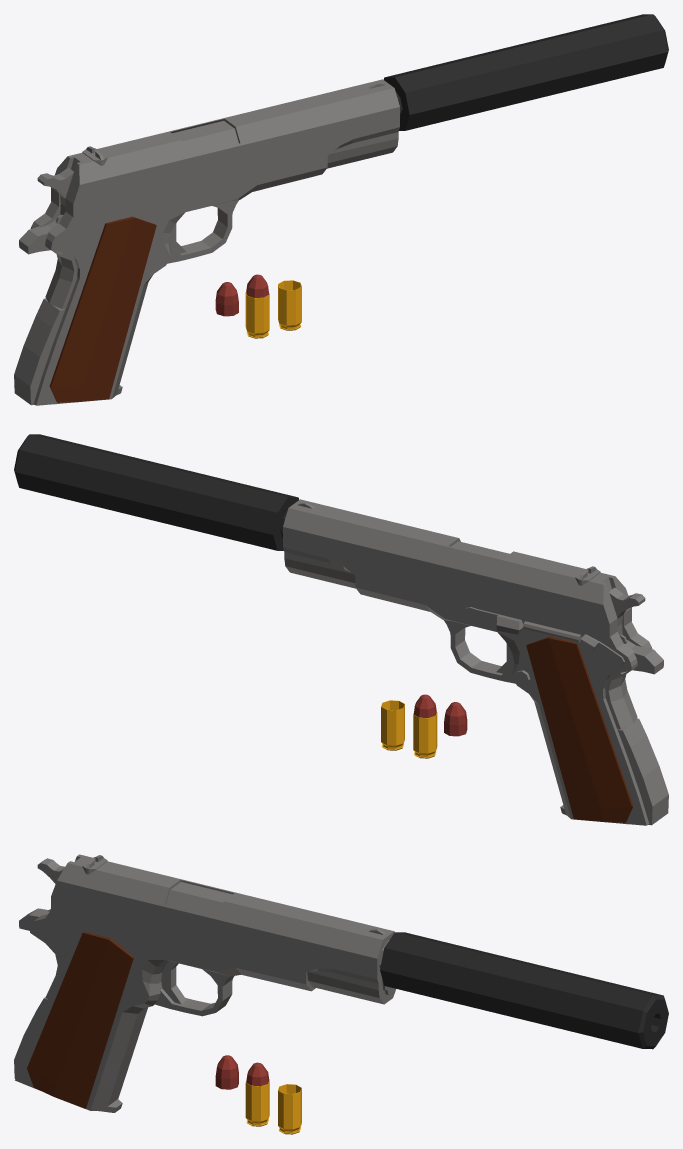
The picture shows the model from 3 angles, top to bottom: view 1: azimuth 30°, elevation 25°; view 2: azimuth 150°, elevation 25°; view 3: azimuth 330°, elevation 25°; orthographic projection.
Parts seen in each view (by area): view 1: M1911, M1911 Culasse, M1911 Sliencieux, 45 ACP, 45 ACP Case.001, 45 ACP Bullet.001, M1911 Marteau; view 2: M1911, M1911 Culasse, M1911 Sliencieux, 45 ACP, 45 ACP Case.001, M1911 ArretoirDeCulasse, 45 ACP Bullet.001, M1911 Marteau; view 3: M1911, M1911 Culasse, M1911 Sliencieux, 45 ACP, 45 ACP Case.001, 45 ACP Bullet.001, M1911 Detente.
Boxes of the visible parts, x1,y1,x2,y2 form: M1911: [14, 120, 327, 405]; M1911 Culasse: [51, 79, 400, 217]; M1911 Sliencieux: [383, 14, 668, 130]; 45 ACP: [245, 274, 269, 338]; 45 ACP Case.001: [278, 280, 301, 330]; 45 ACP Bullet.001: [215, 282, 238, 316]; M1911 Marteau: [37, 167, 73, 214]; M1911: [355, 541, 668, 825]; M1911 Culasse: [282, 499, 631, 637]; M1911 Sliencieux: [14, 434, 299, 550]; 45 ACP: [413, 694, 437, 758]; 45 ACP Case.001: [381, 700, 404, 750]; M1911 ArretoirDeCulasse: [462, 607, 523, 634]; 45 ACP Bullet.001: [444, 702, 467, 736]; M1911 Marteau: [609, 587, 645, 634]; M1911: [14, 882, 315, 1111]; M1911 Culasse: [51, 854, 395, 1004]; M1911 Sliencieux: [380, 932, 668, 1049]; 45 ACP: [245, 1062, 269, 1126]; 45 ACP Case.001: [278, 1084, 301, 1134]; 45 ACP Bullet.001: [215, 1055, 238, 1089]; M1911 Detente: [161, 961, 186, 1004].
Size of the model in its own units: 36.1 by 13.42 by 2.98.
